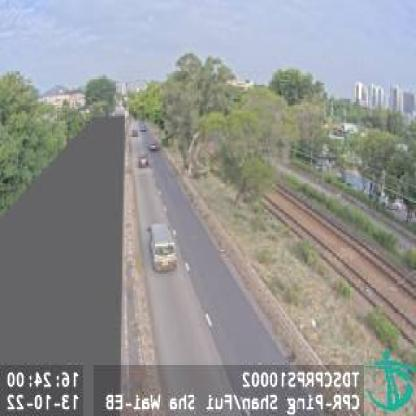Car: (146, 224, 177, 273), (137, 153, 147, 166), (149, 141, 158, 151)
